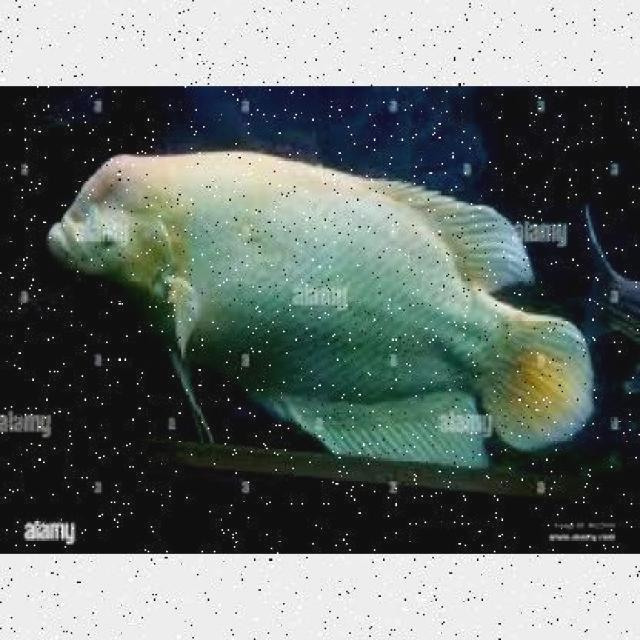gurame: (46, 142, 594, 464)
